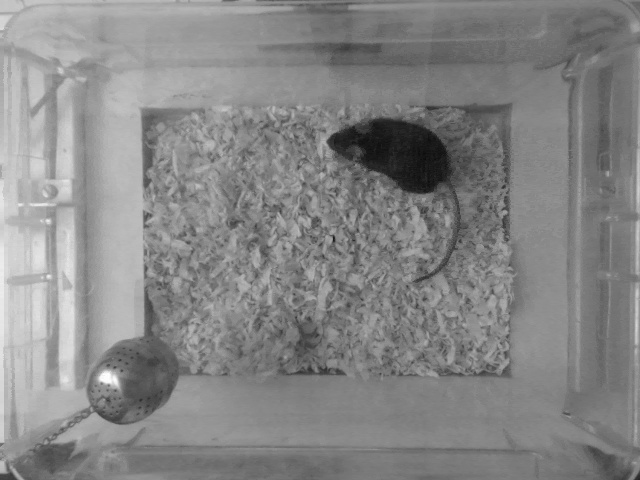mice: (322, 116, 465, 283)
